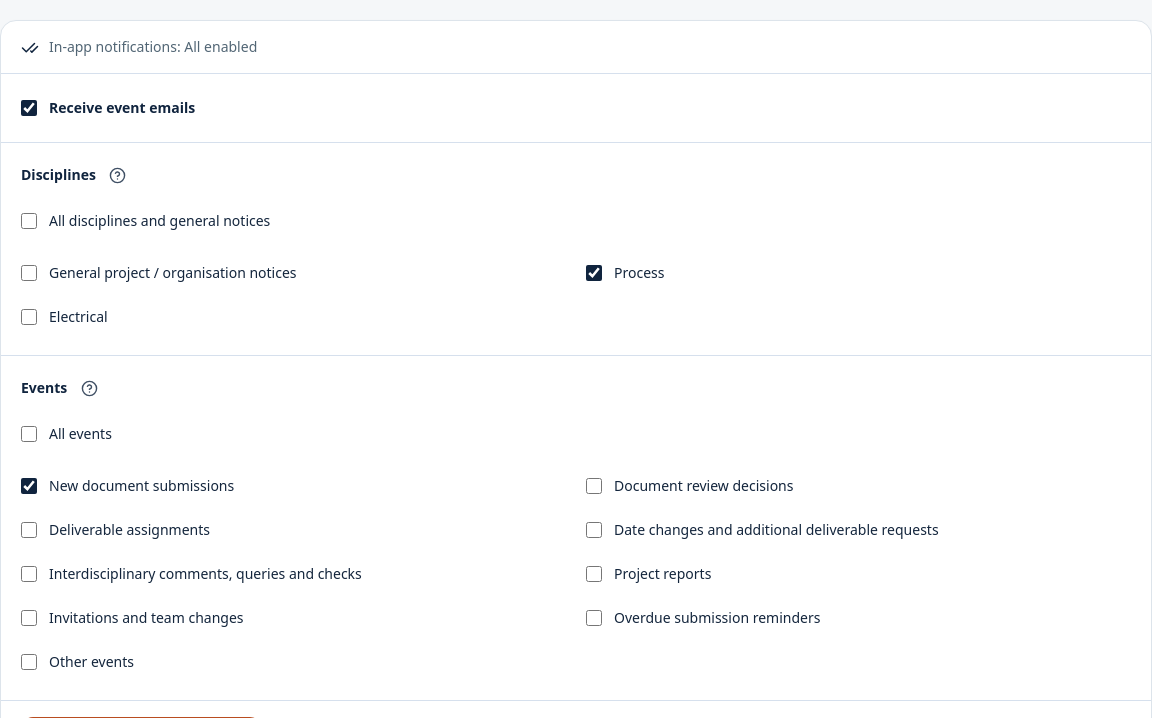
explains the email filters without changing selections or submitting preferences
Focus the button named "Email discipline filter": (118, 175) x1=102 y1=159 x2=134 y2=191
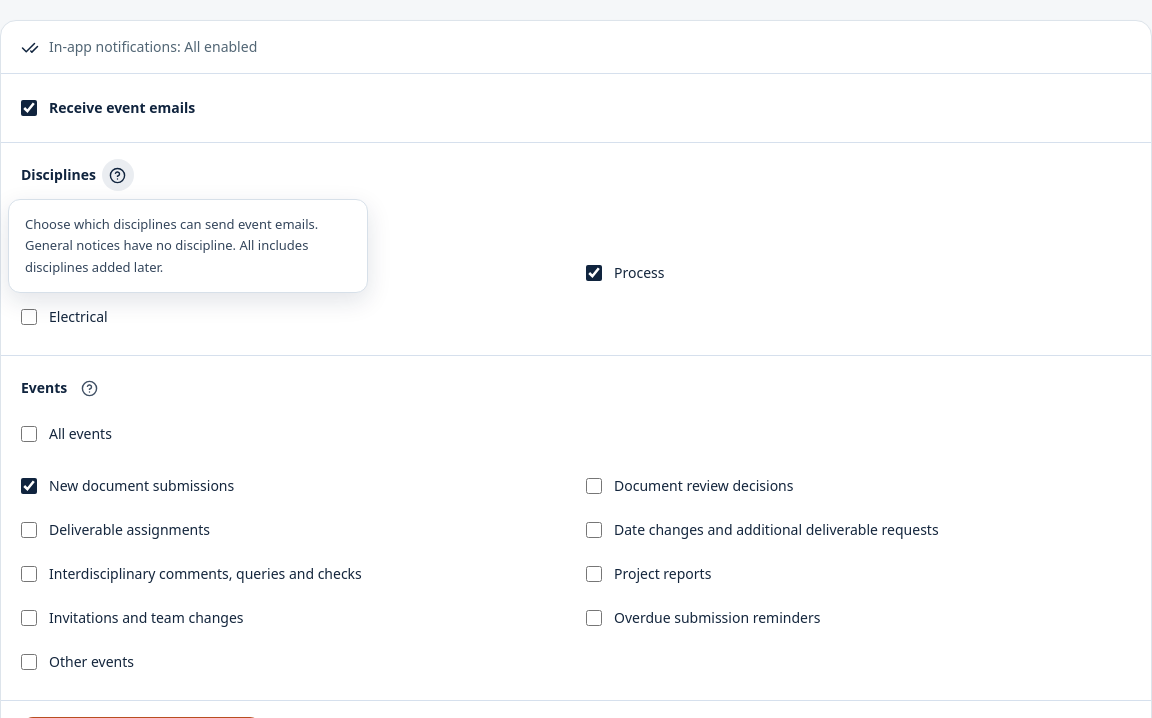
Now the tooltip shows "All includes disciplines added later.", box x1=25 y1=215 x2=318 y2=276
Press Escape in the button named "Email discipline filter", box x1=102 y1=159 x2=134 y2=191
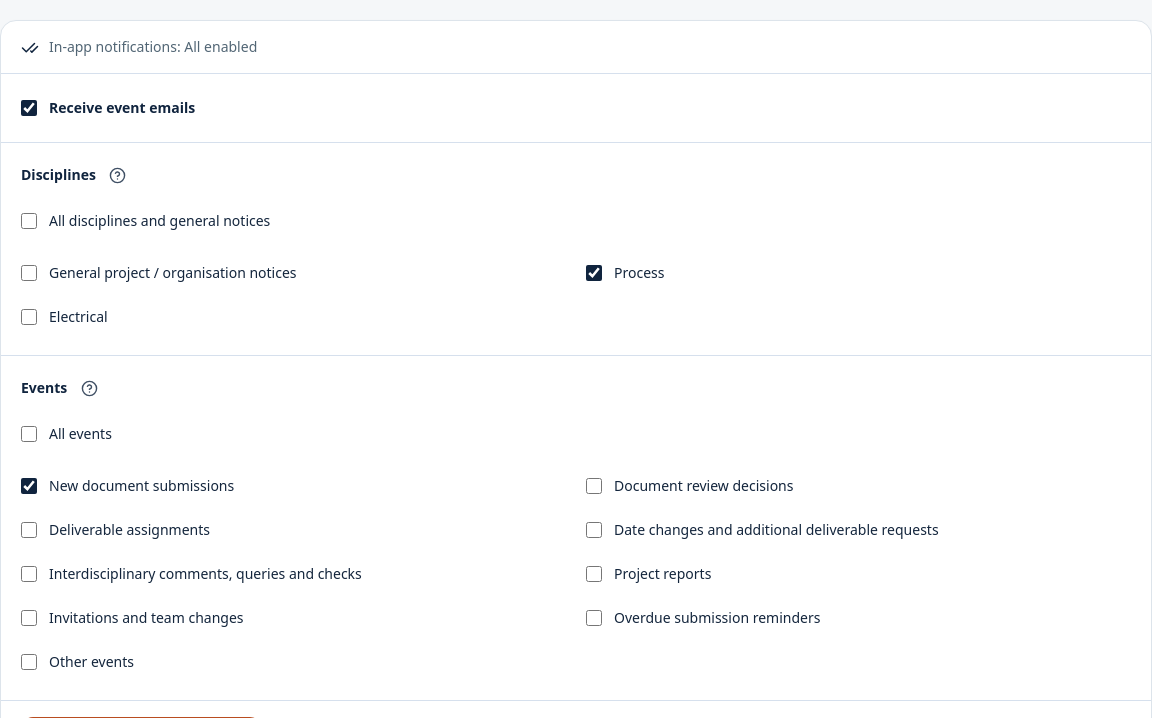
Focus the button named "Email event filter": (89, 388) x1=73 y1=372 x2=105 y2=404
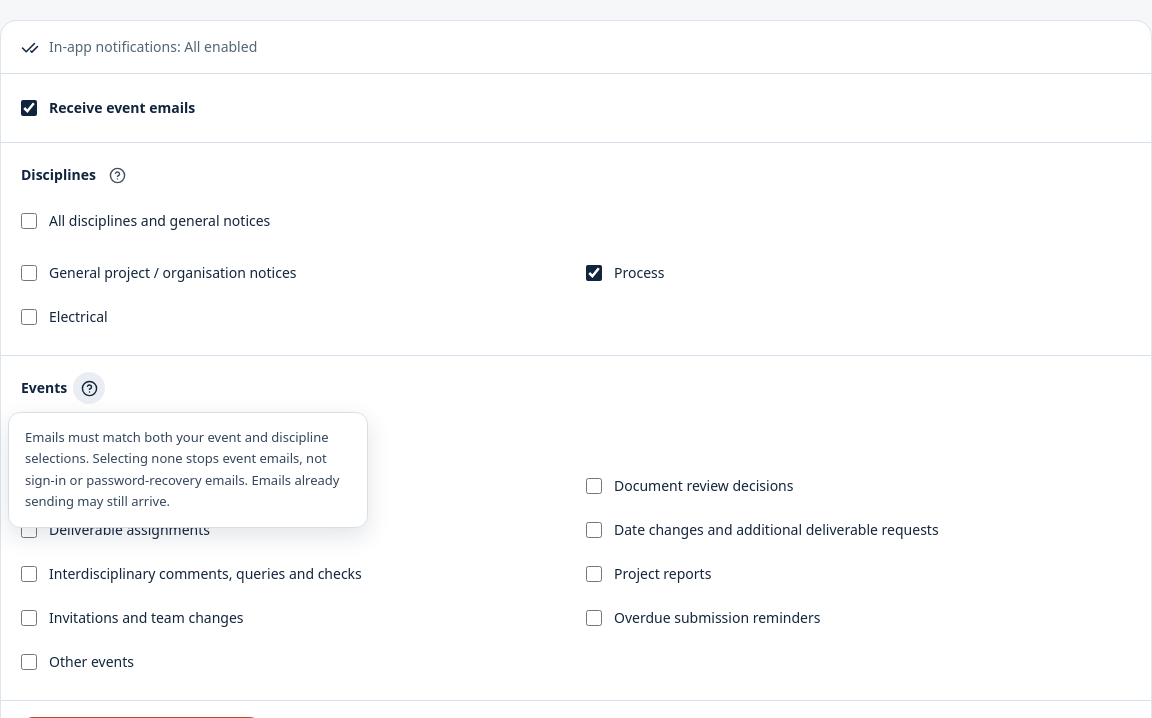
Expected: the text "In-app notifications: All enabled" is shown, x1=49 y1=37 x2=257 y2=57
Now the tooltip shows "both your event and discipline selections", box x1=25 y1=428 x2=340 y2=510
Now the tooltip shows "not sign-in or password-recovery emails", box x1=25 y1=428 x2=340 y2=510
